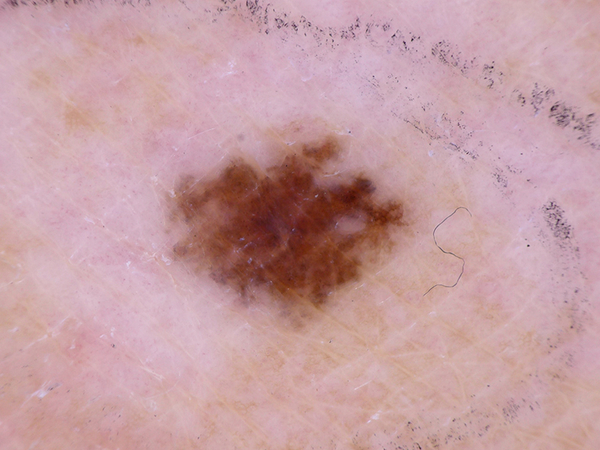Detected Lesion: (163, 138, 415, 307)
